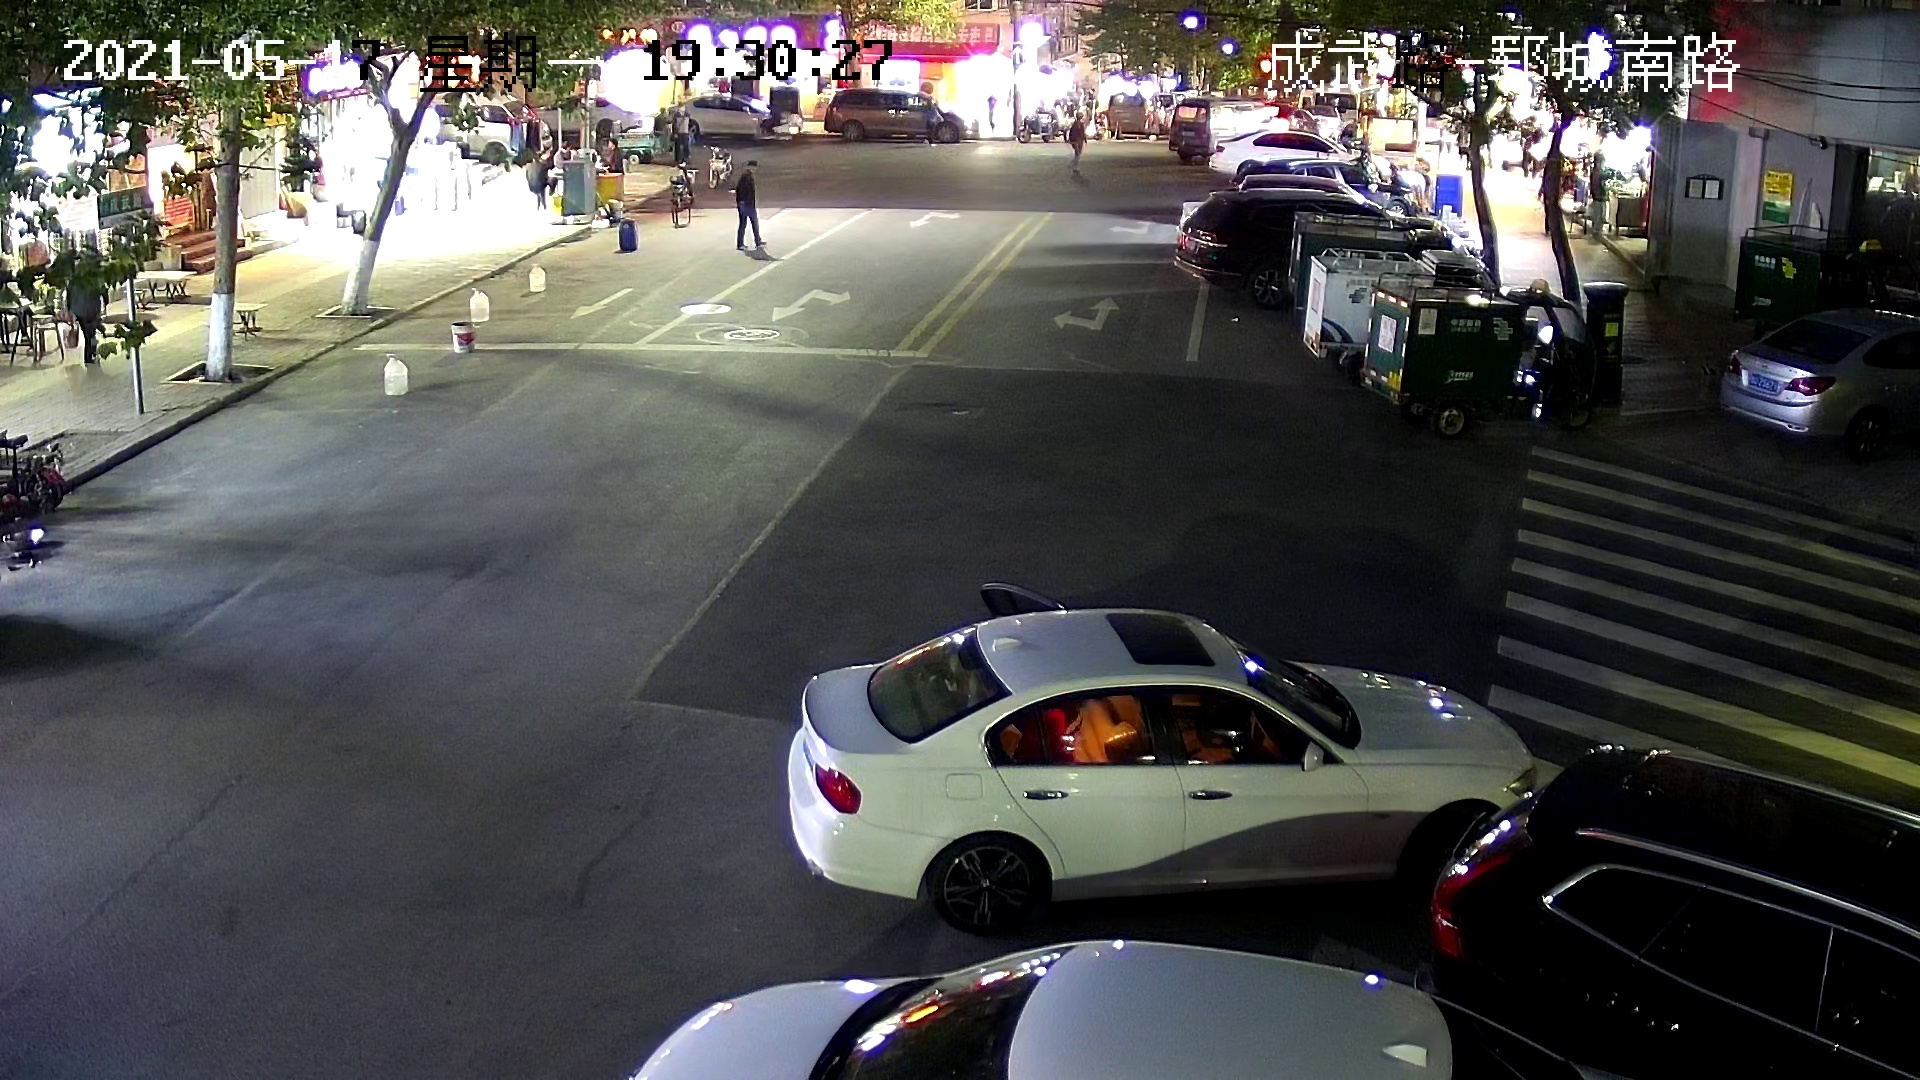chair: (30, 314, 63, 363)
table: (200, 301, 268, 339), (0, 295, 34, 367), (133, 266, 194, 299)
uncertain: (526, 142, 622, 207)
